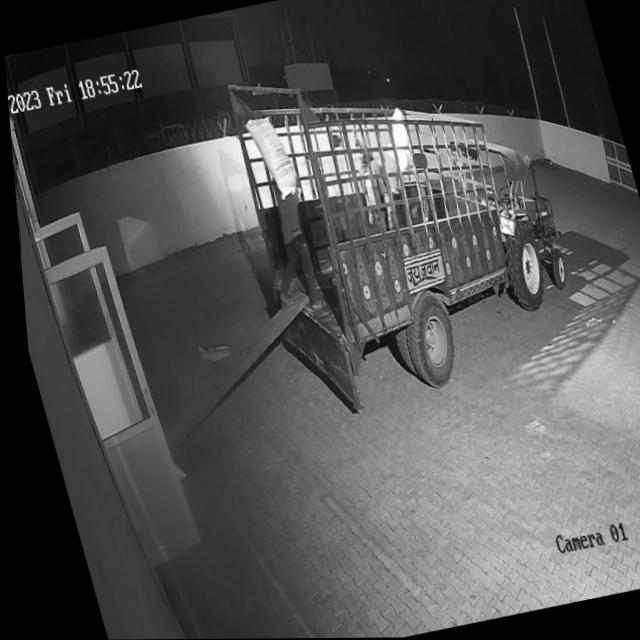sack: (241, 112, 299, 203)
